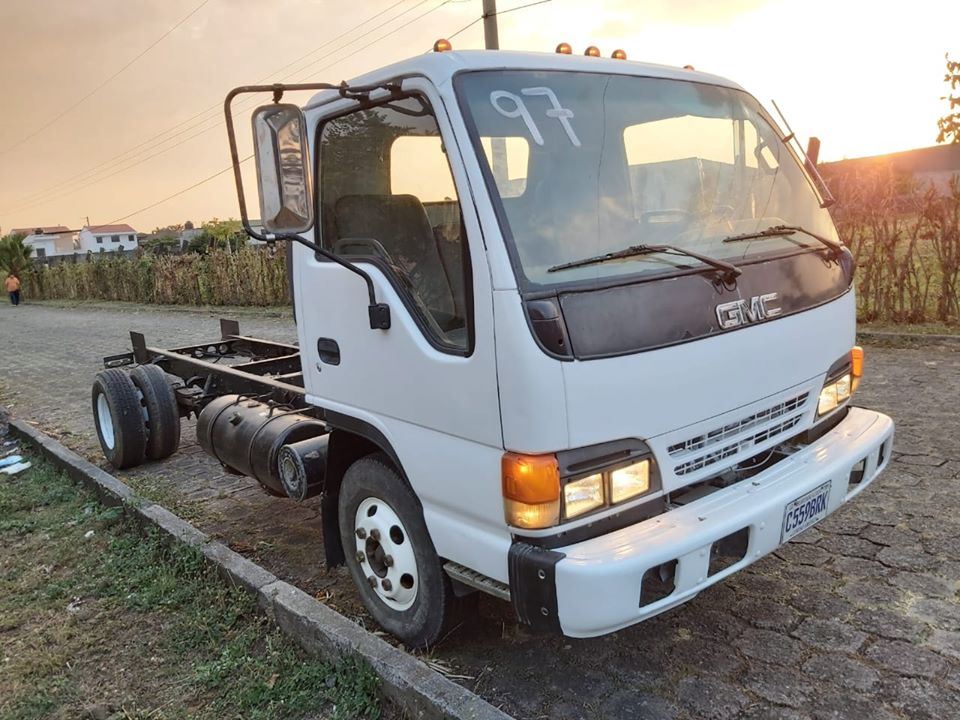camion: (71, 43, 893, 645)
